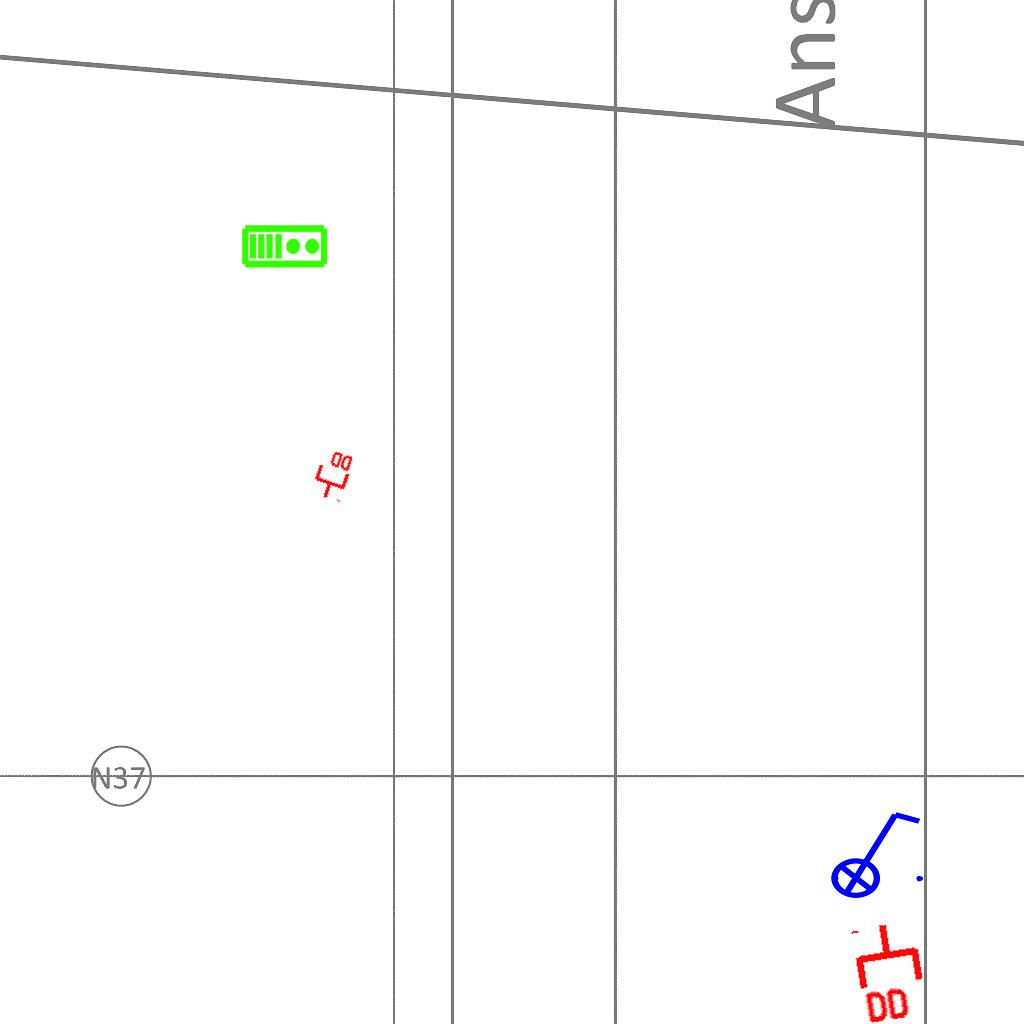Ausschalter_beleuchtet: (817, 804, 929, 900)
Datenanschluss_zweifach: (849, 916, 934, 1024), (307, 444, 357, 505)
Gegensprechanlage_mit_Video: (241, 222, 329, 269)
